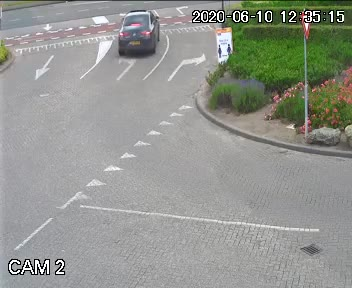car: (114, 4, 165, 62)
